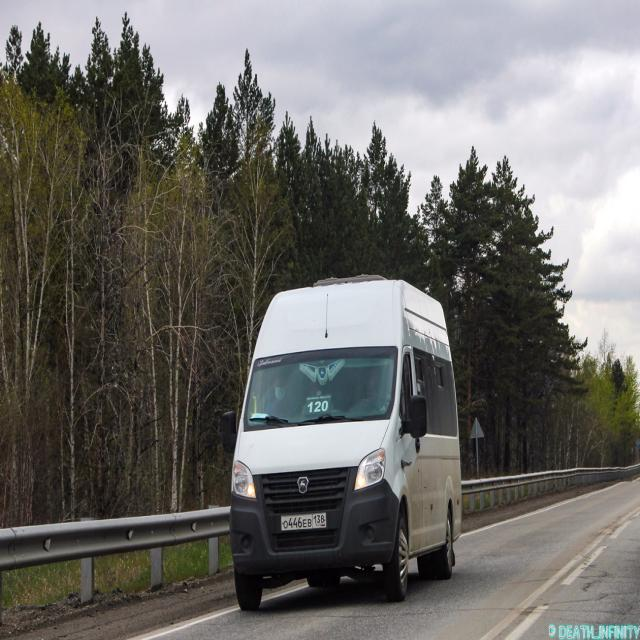number-of-bus: (309, 402, 329, 415)
